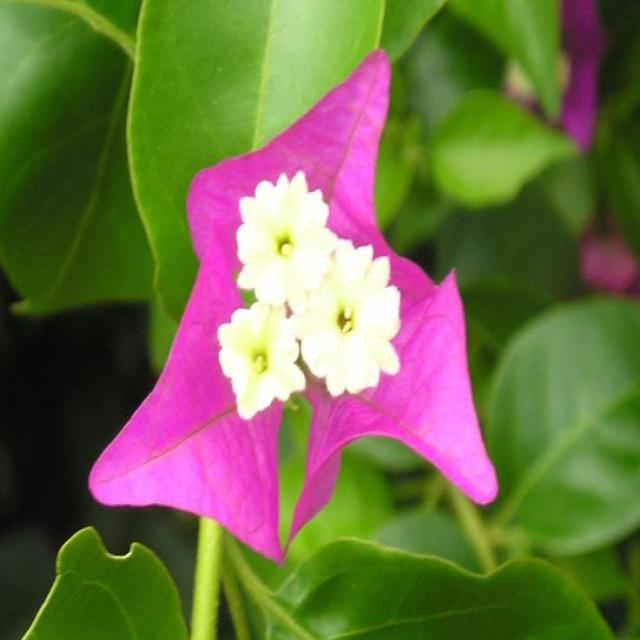bougainvillea: (62, 39, 524, 606)
